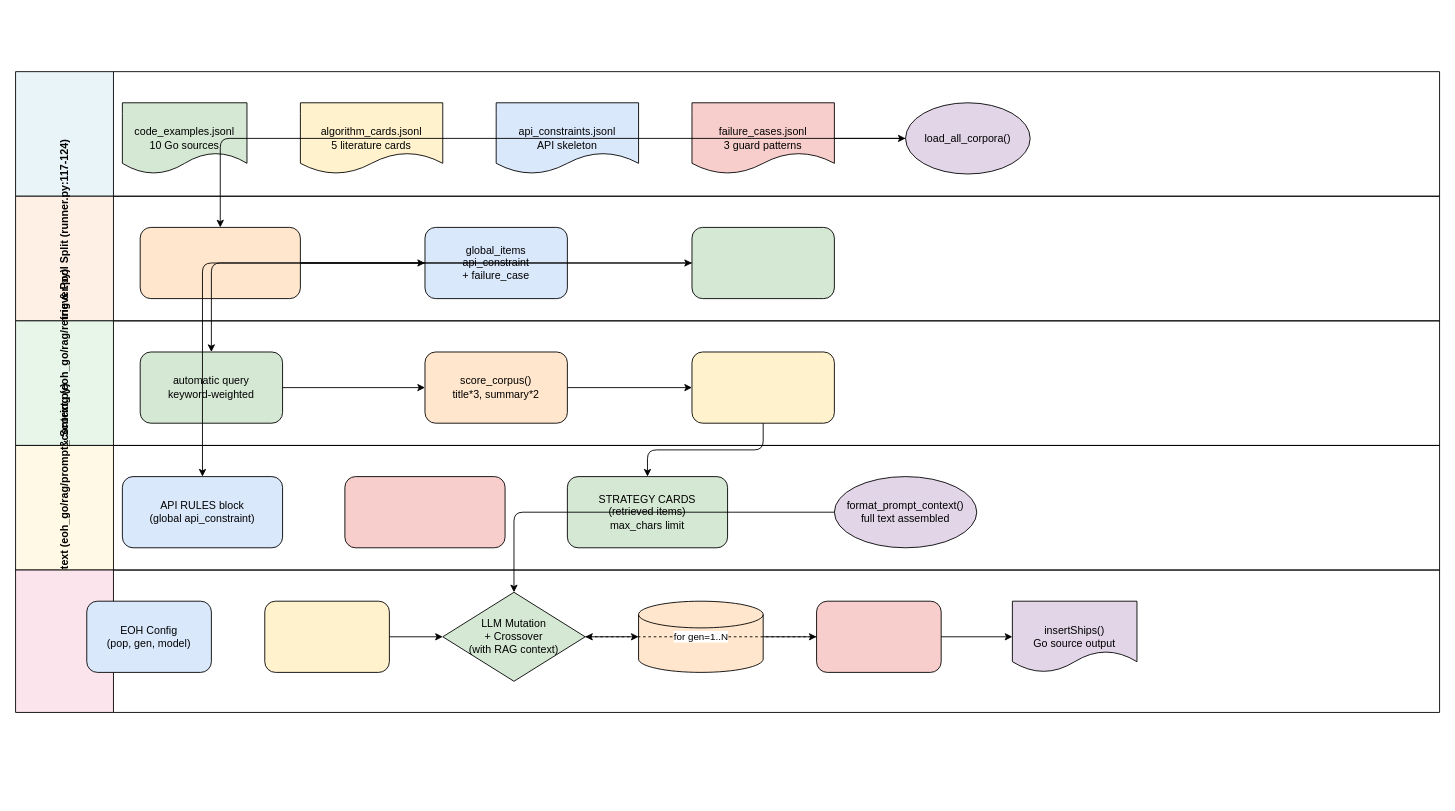
This 1455x811 diagram has some shape labels left out. The box of each missing label's shape, as (x1, y1, x2, y2) in pixels:
Candidate Guard (classify, select): (816, 600, 941, 672)
Corpus Building (eoh_go/rag/build_corpus.py): (15, 71, 1440, 196)
EOH Evolution (Agent_EOH + eoh_go/eoh_runner/runner.py): (15, 569, 1440, 712)
filter_corpus_by_mode() history/literature/mixed: (139, 227, 300, 299)
Go SA Simulator Evaluation: (638, 600, 763, 672)
retrieve() top_k items: (691, 351, 834, 423)
Seed Algorithm (greedy SA): (264, 600, 389, 672)
strategy_pool algorithm_card or code_example: (691, 227, 834, 299)
WARNINGS block (failure_case x1): (344, 476, 505, 548)
